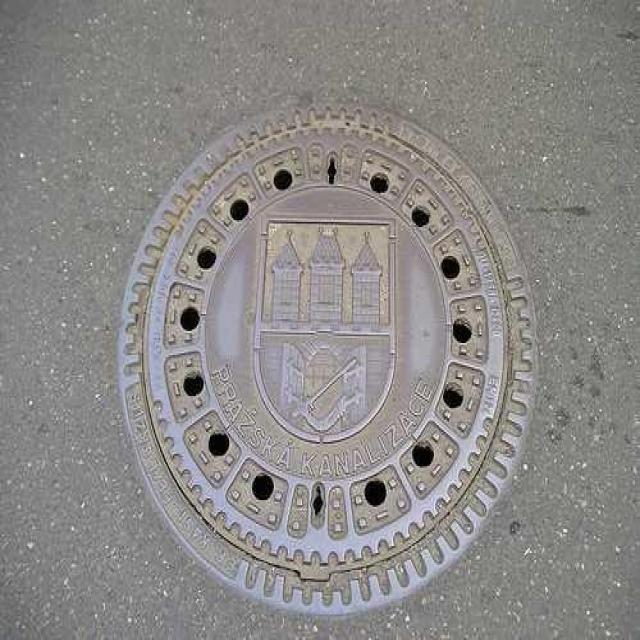manhole: (114, 97, 538, 620)
